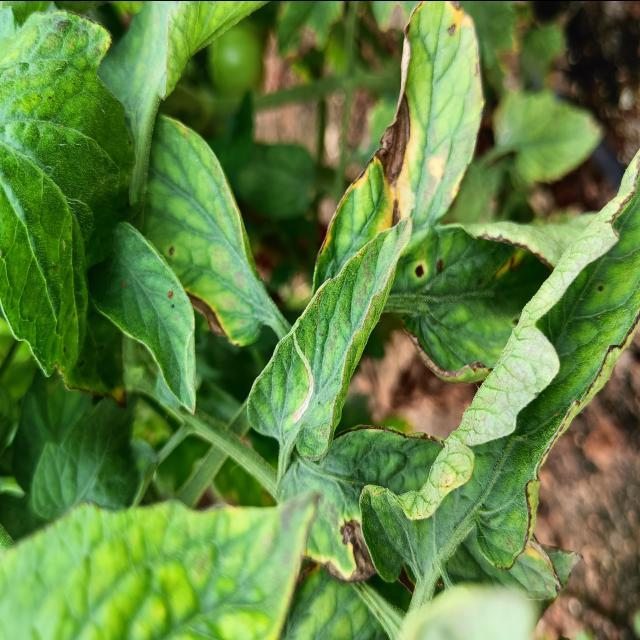Tomato mosaic virus leaf: (319, 0, 488, 248), (394, 217, 578, 383), (304, 421, 444, 587)
